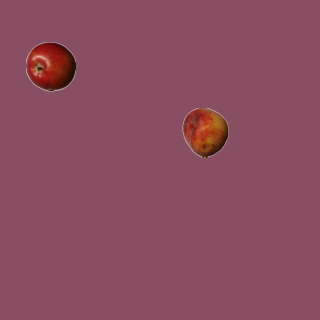Apple Braeburn: (25, 41, 75, 91)
Peach: (180, 107, 230, 157)
